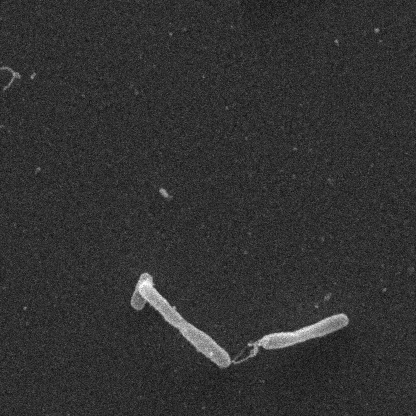cell2cell: (228, 340, 264, 366)
regular: (135, 281, 233, 371), (260, 311, 348, 354), (126, 271, 152, 309)
